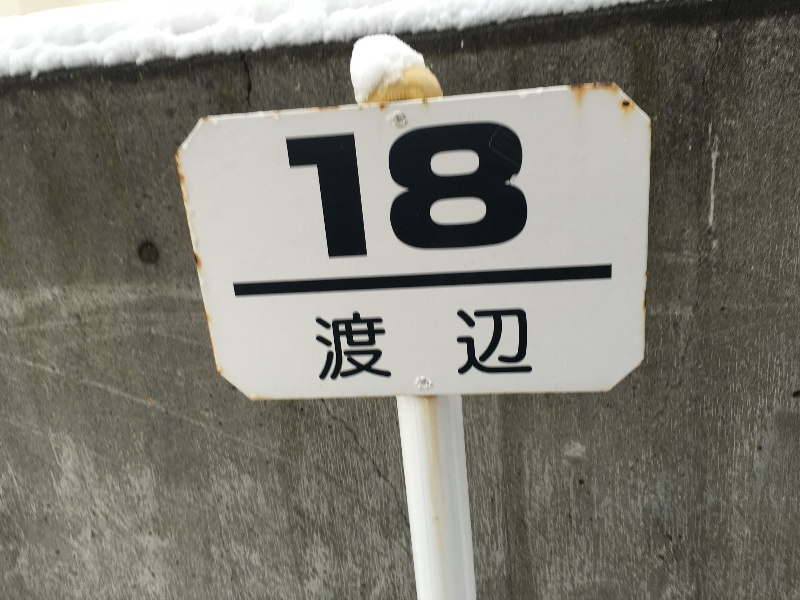text: (289, 117, 304, 264), (305, 117, 320, 264), (321, 117, 336, 264), (337, 117, 352, 264), (353, 117, 368, 264), (369, 117, 384, 264), (385, 117, 400, 264), (401, 117, 416, 264), (417, 117, 432, 264), (433, 117, 448, 264), (449, 117, 464, 264), (465, 117, 480, 264), (481, 117, 496, 264), (497, 117, 512, 264), (513, 117, 528, 264), (321, 306, 336, 383), (337, 306, 352, 383), (353, 306, 368, 383), (369, 306, 384, 383), (385, 306, 400, 383), (401, 306, 416, 383), (417, 306, 432, 383), (433, 306, 448, 383), (449, 306, 464, 383), (465, 306, 480, 383), (481, 306, 496, 383), (497, 306, 512, 383), (513, 306, 528, 383), (315, 306, 320, 383), (529, 306, 533, 383), (286, 117, 288, 264), (529, 117, 531, 264)
